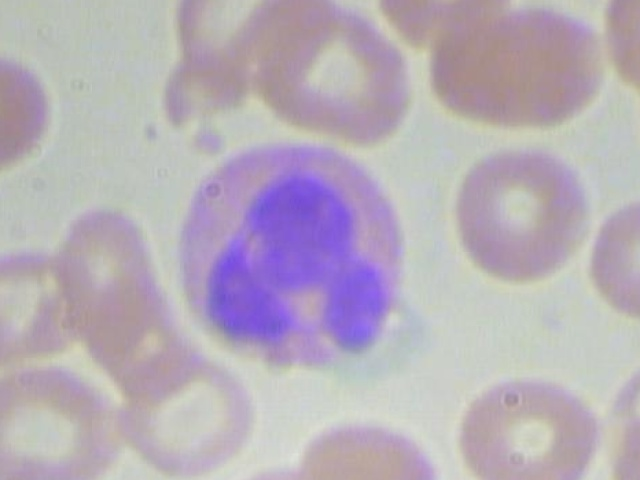RBC: (226, 8, 415, 146), (419, 0, 608, 130), (446, 144, 595, 292), (108, 337, 257, 480), (459, 362, 608, 480), (0, 358, 121, 480), (291, 403, 440, 480), (577, 187, 640, 335), (0, 41, 54, 177), (202, 443, 351, 480), (595, 0, 640, 105), (619, 399, 640, 480)
WBC: (165, 136, 418, 381)
